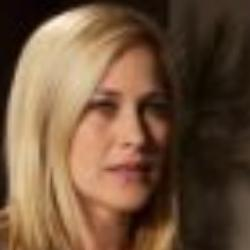face: (3, 5, 187, 233)
